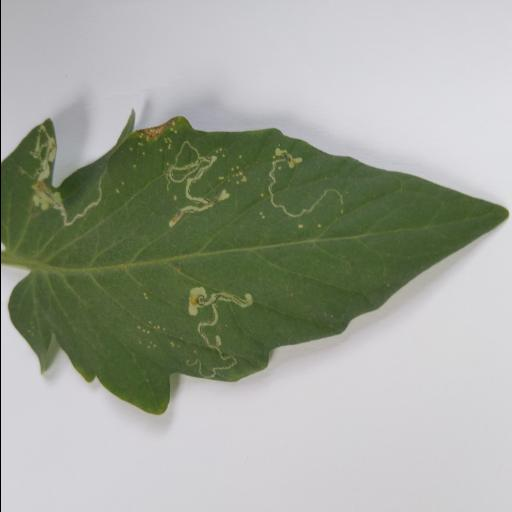Leaf Miner: (0, 113, 511, 413)
